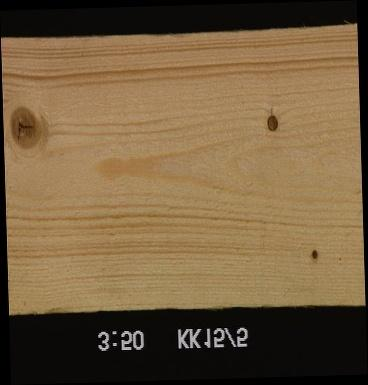dry_knot: (264, 113, 278, 133)
small_knot: (308, 247, 319, 261)
sound_knot: (8, 105, 39, 150)
